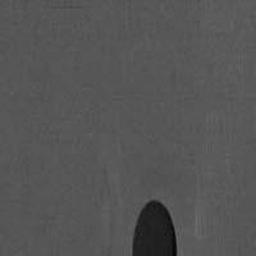Punching: (132, 200, 178, 256)
